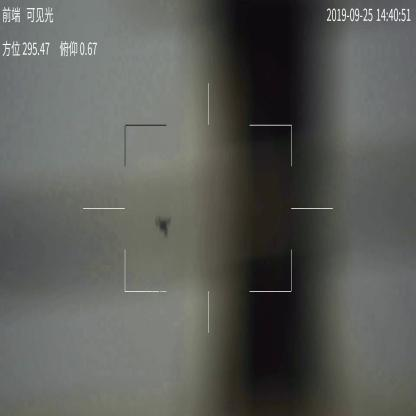uav: (154, 213, 173, 239)
